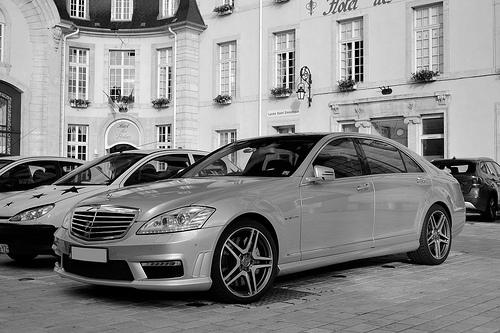car: (53, 130, 471, 304)
